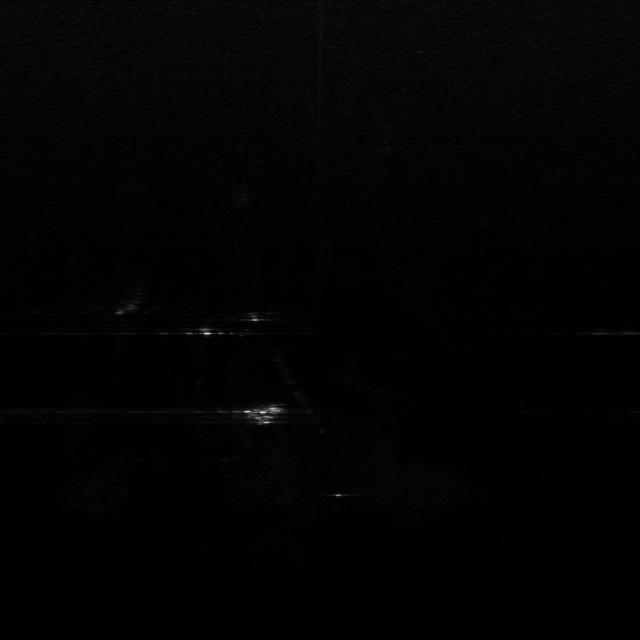rov: (240, 403, 284, 428)
